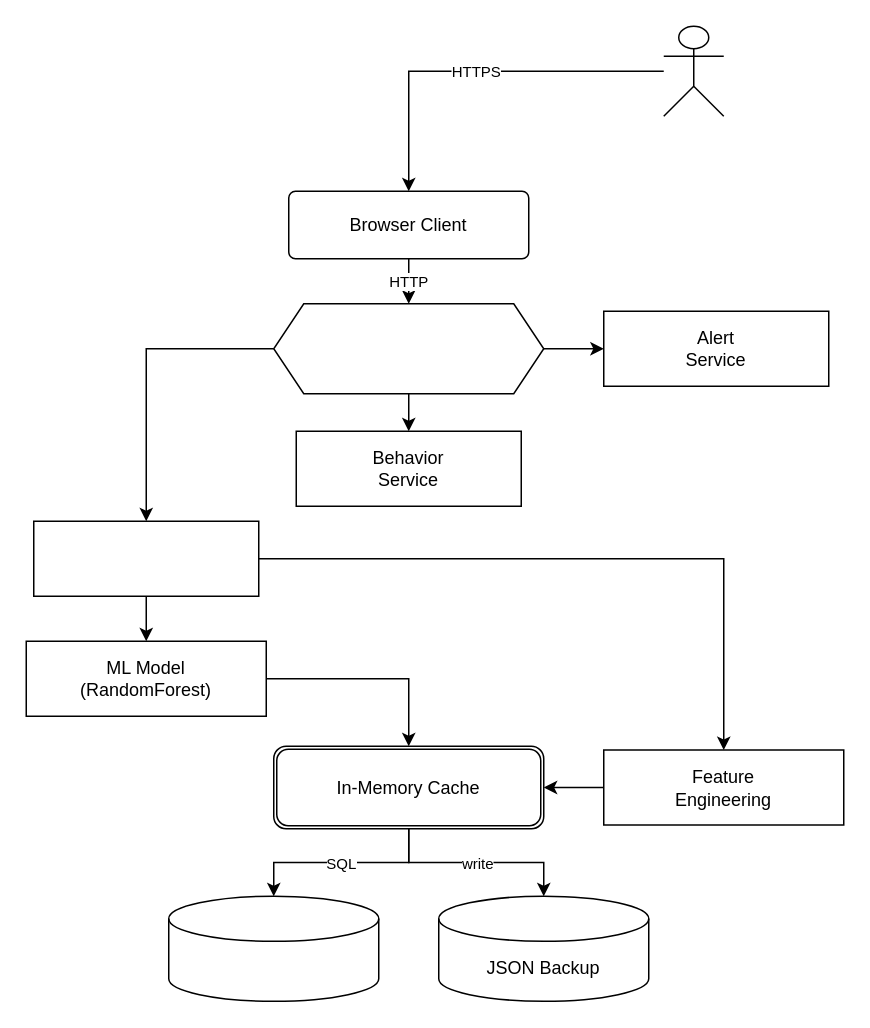
The diagram is 870 pixels wide and 1028 high, and some of its shapes have lost their labels. Each missing label, with the centre of its shape:
Flask App (Blueprints): (408,348)
Operator: (693,70)
Scoring Service: (145,558)
SQLite DB: (273,948)
